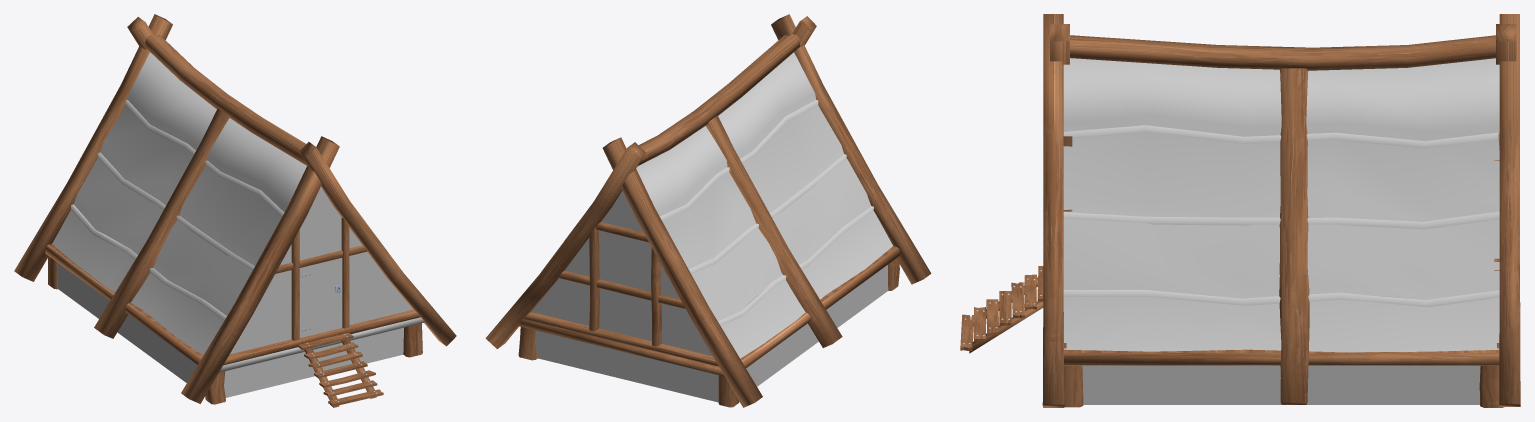
The model's file is Buidling_1.fbx.
The picture shows the model from 3 angles, left to right: view 1: azimuth 30°, elevation 25°; view 2: azimuth 150°, elevation 25°; view 3: azimuth 270°, elevation 25°; orthographic projection. The views are drawn at different scales.
Visible parts, largest first — view 1: Buidling_1; view 2: Buidling_1; view 3: Buidling_1.
Boxes of the visible parts, x1,y1,x2,y2 form: Buidling_1: [14, 14, 456, 407]; Buidling_1: [485, 14, 931, 407]; Buidling_1: [960, 14, 1520, 407].
Bounding box in the file's own units: 8.39 × 7.21 × 11.46.
